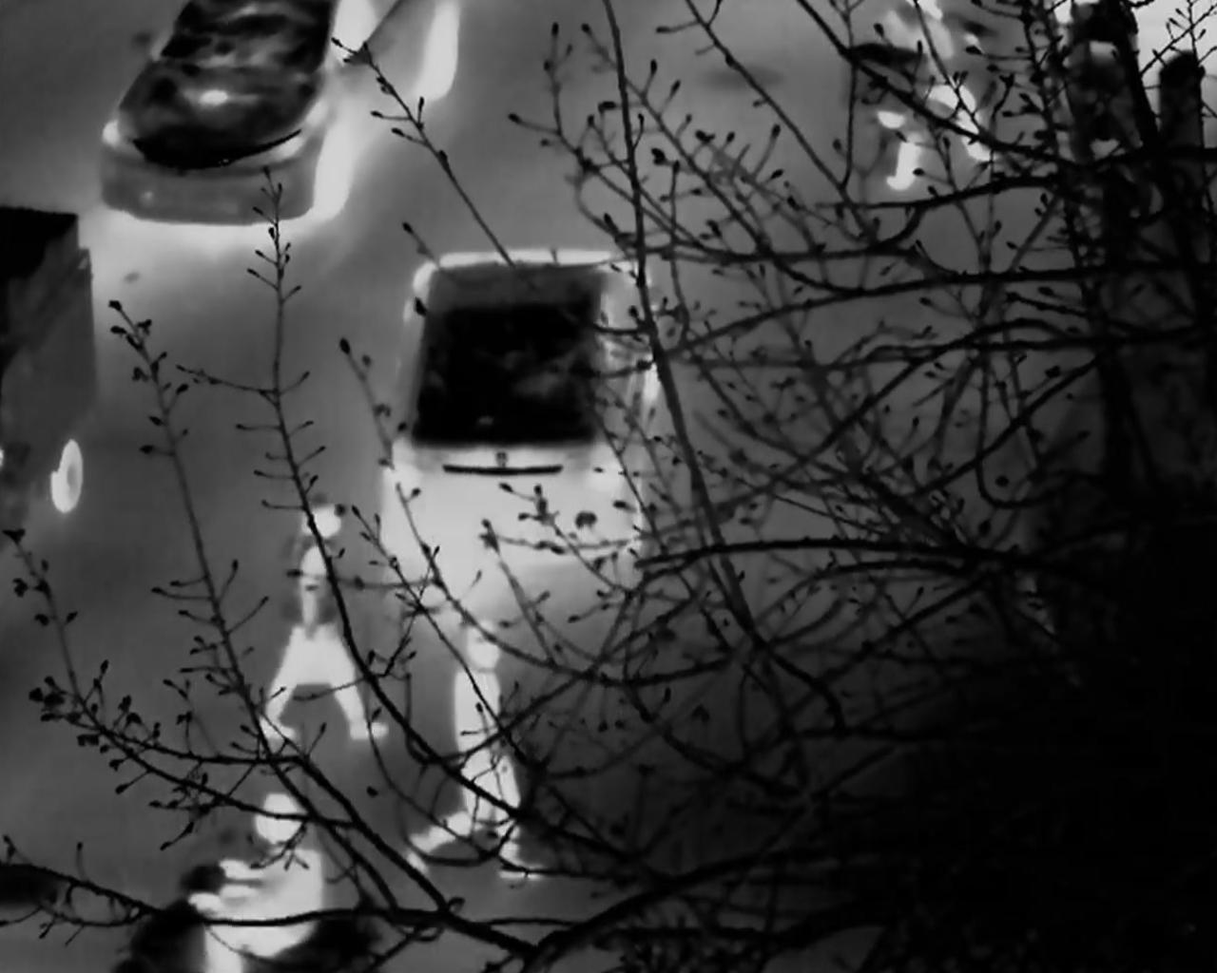person: (427, 611, 543, 887), (260, 497, 380, 739), (193, 794, 328, 973)
